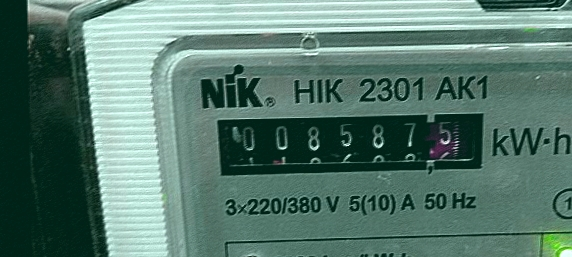0: (238, 120, 255, 149), (272, 120, 289, 149)
5: (435, 116, 453, 145), (335, 118, 353, 146)
7: (399, 116, 417, 146)
8: (367, 117, 385, 148), (304, 121, 320, 149)
screen: (197, 95, 501, 184)
